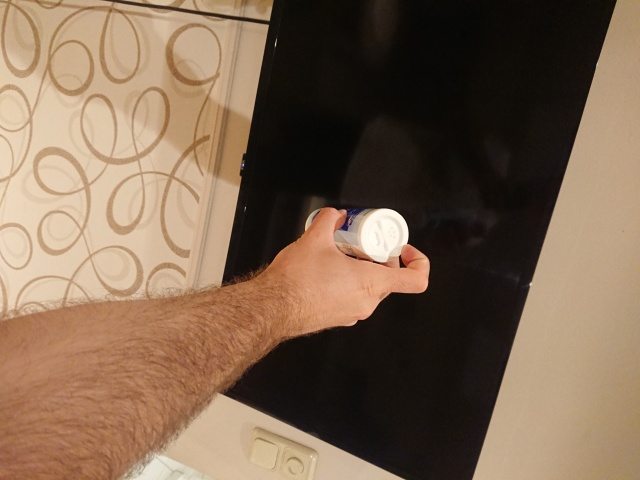Solana Pag Fine Sea Salt 250g: (300, 201, 412, 268)
